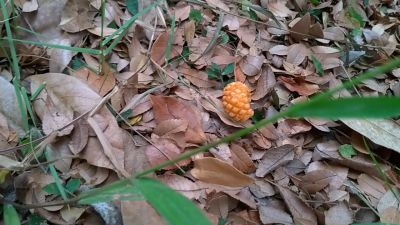eggs: (219, 78, 255, 125)
